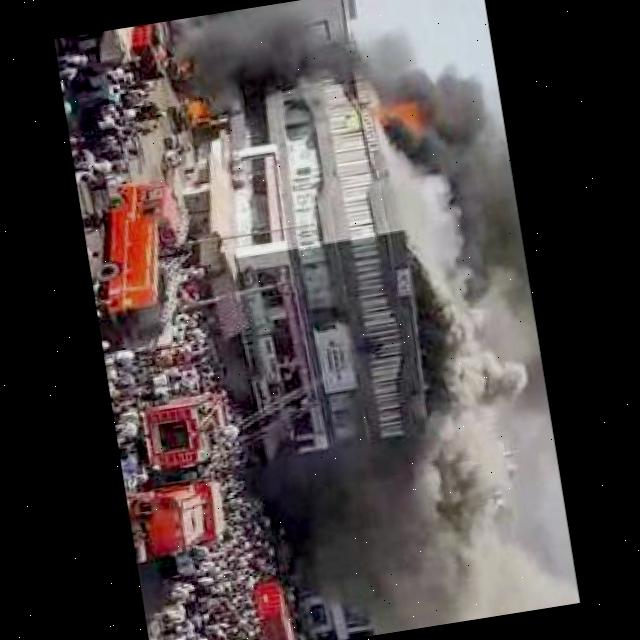fire: (372, 80, 431, 140), (179, 85, 213, 119)
